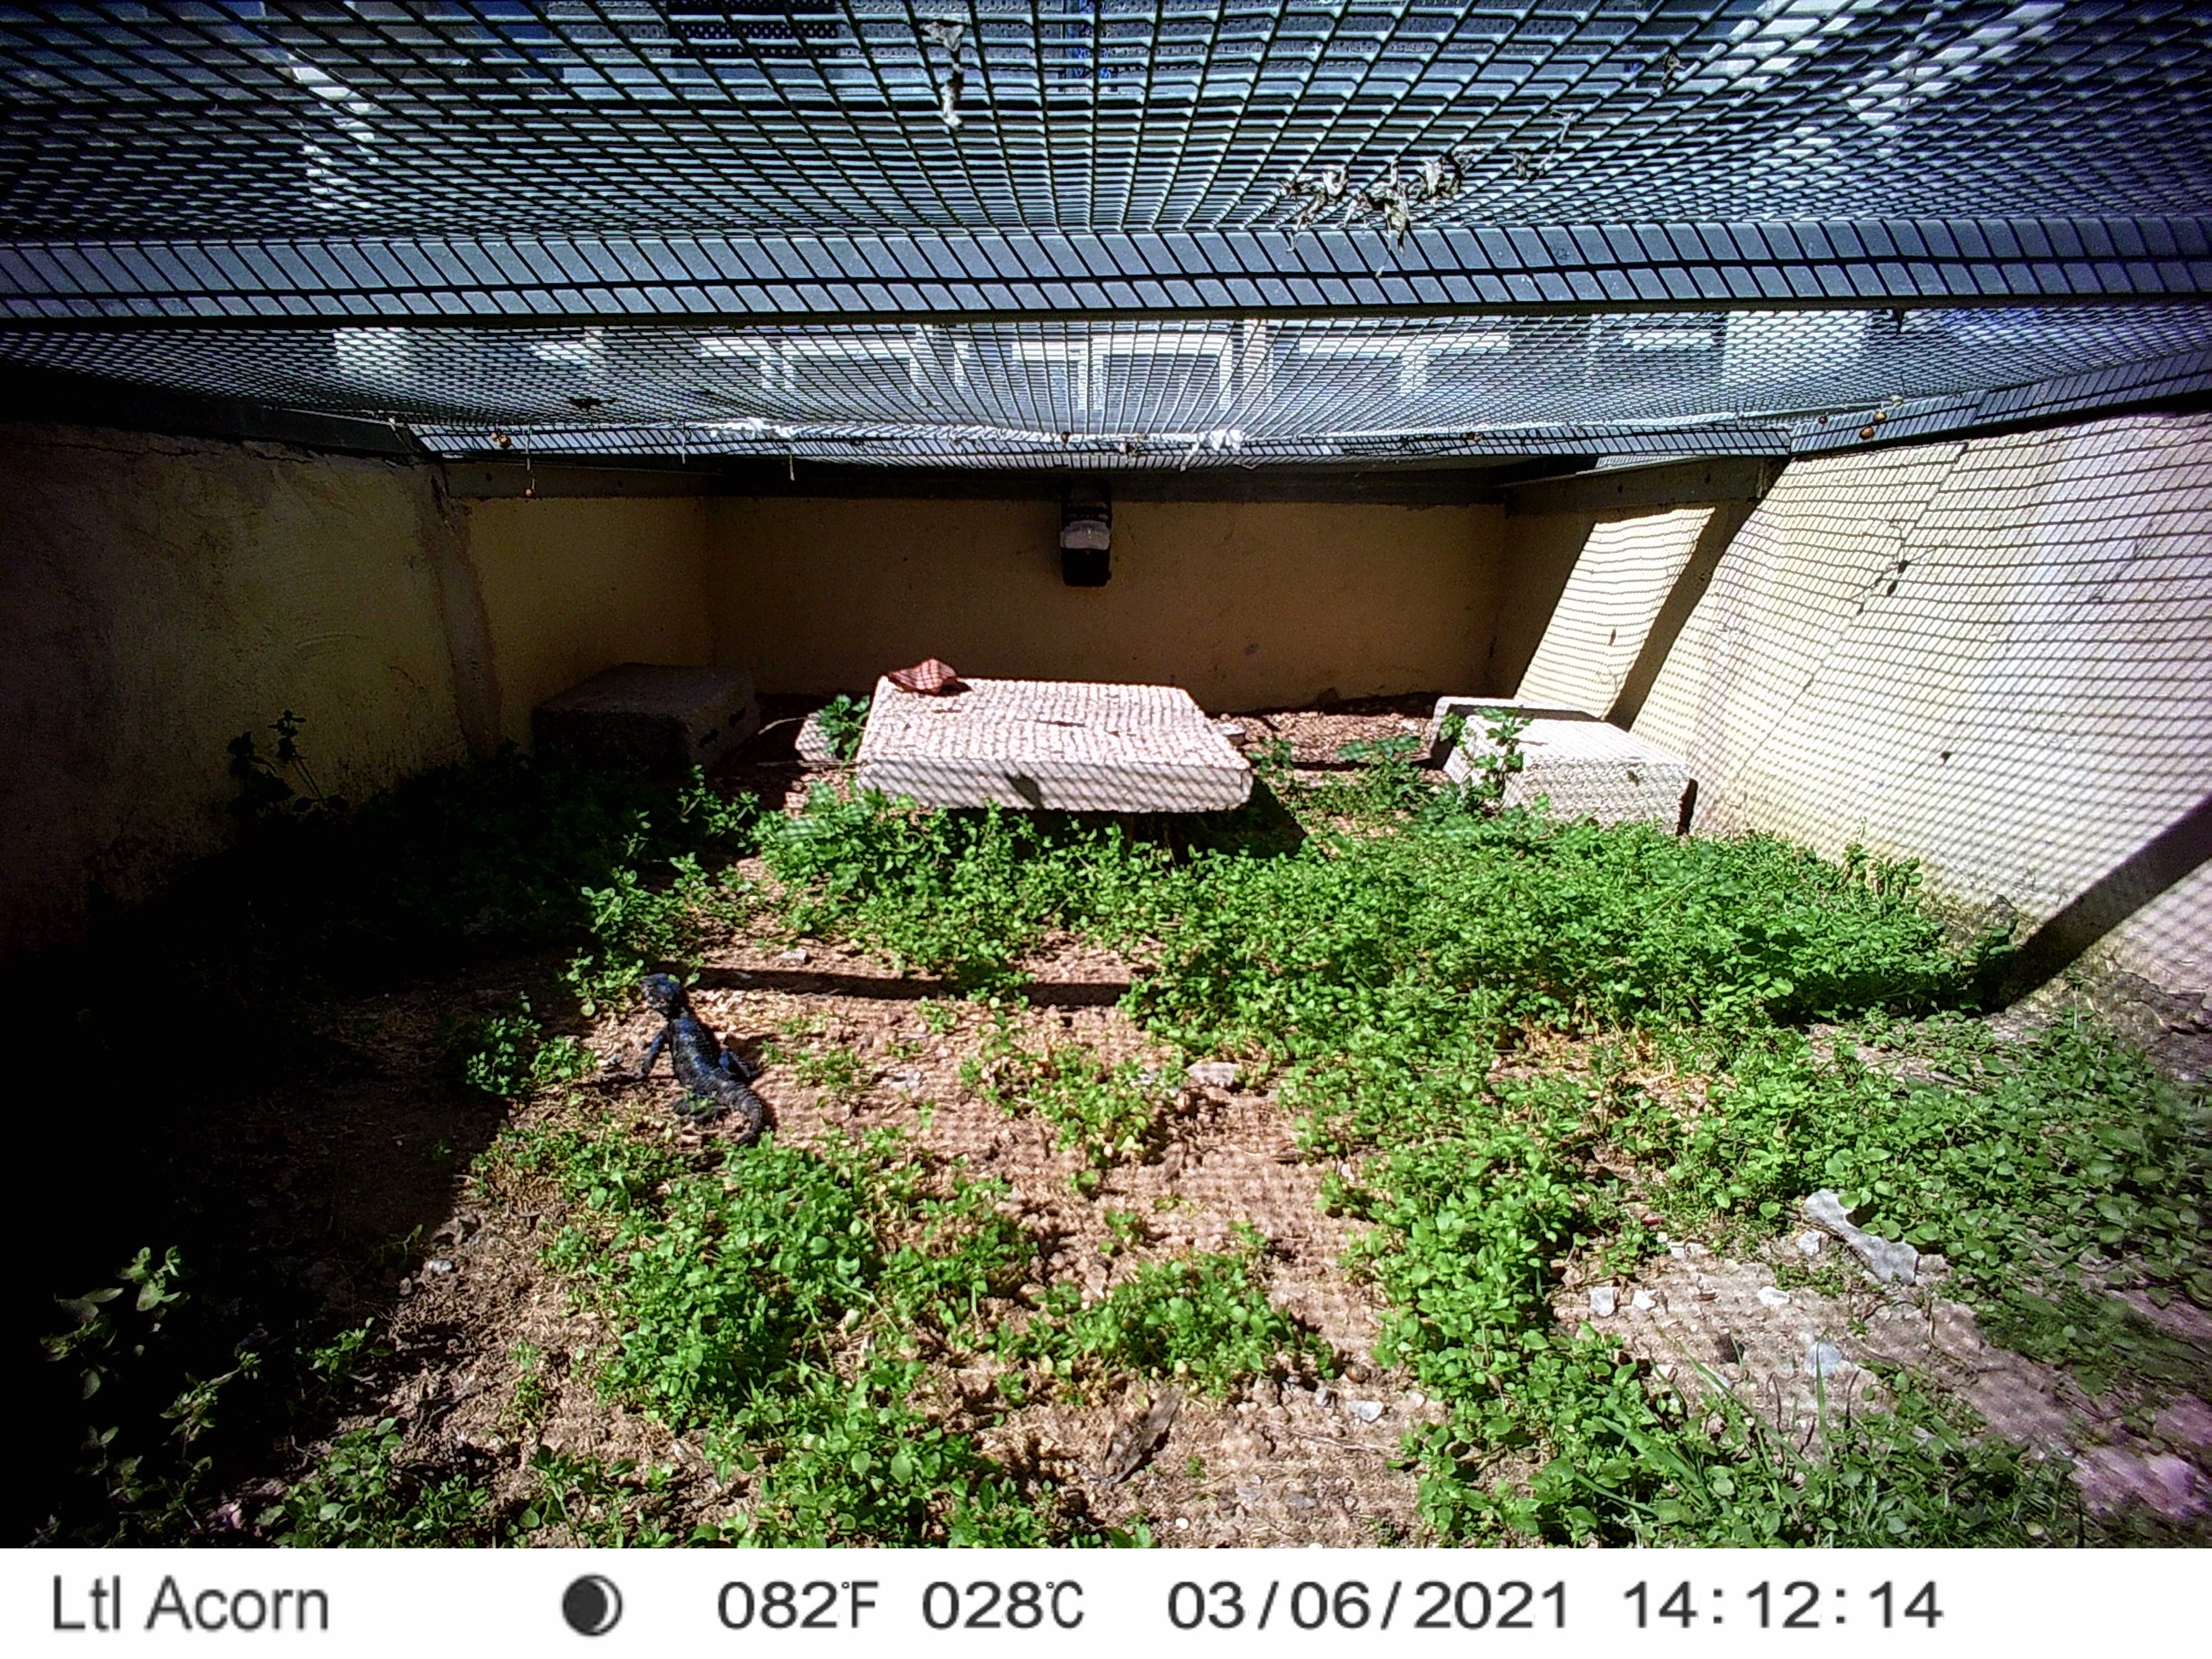lizard: (631, 972, 789, 1152)
